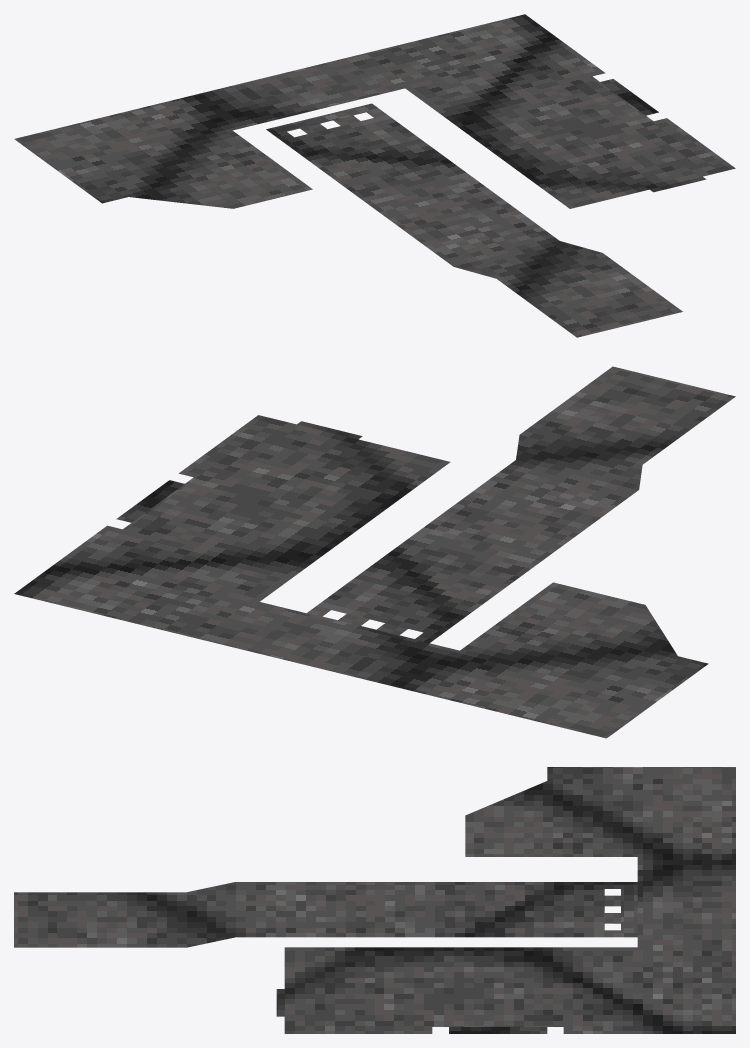
The model's file is F_BASHXL.1.obj.
3 renders of one model, top to bottom at view 1: azimuth 30°, elevation 25°; view 2: azimuth 150°, elevation 25°; view 3: azimuth 270°, elevation 25°, orthographic. The views are drawn at different scales.
Parts seen in each view (by area): view 1: F_BASHXL.1; view 2: F_BASHXL.1; view 3: F_BASHXL.1.
Boxes of the visible parts, x1,y1,x2,y2 form: F_BASHXL.1: (14, 14, 735, 337); F_BASHXL.1: (14, 366, 735, 738); F_BASHXL.1: (14, 767, 735, 1033).
Bounding box in the file's own units: 1232 × 16 × 1408.
